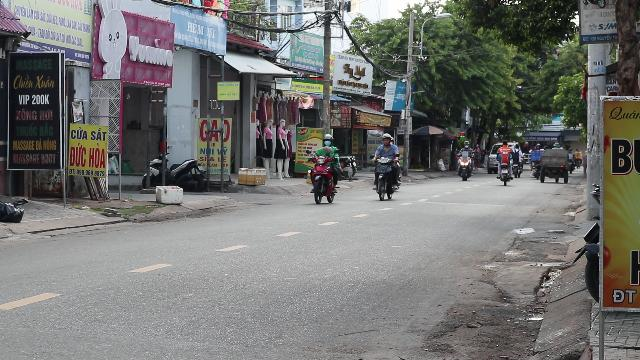helmet: (322, 134, 333, 146)
motorcyclist: (304, 132, 342, 204)
